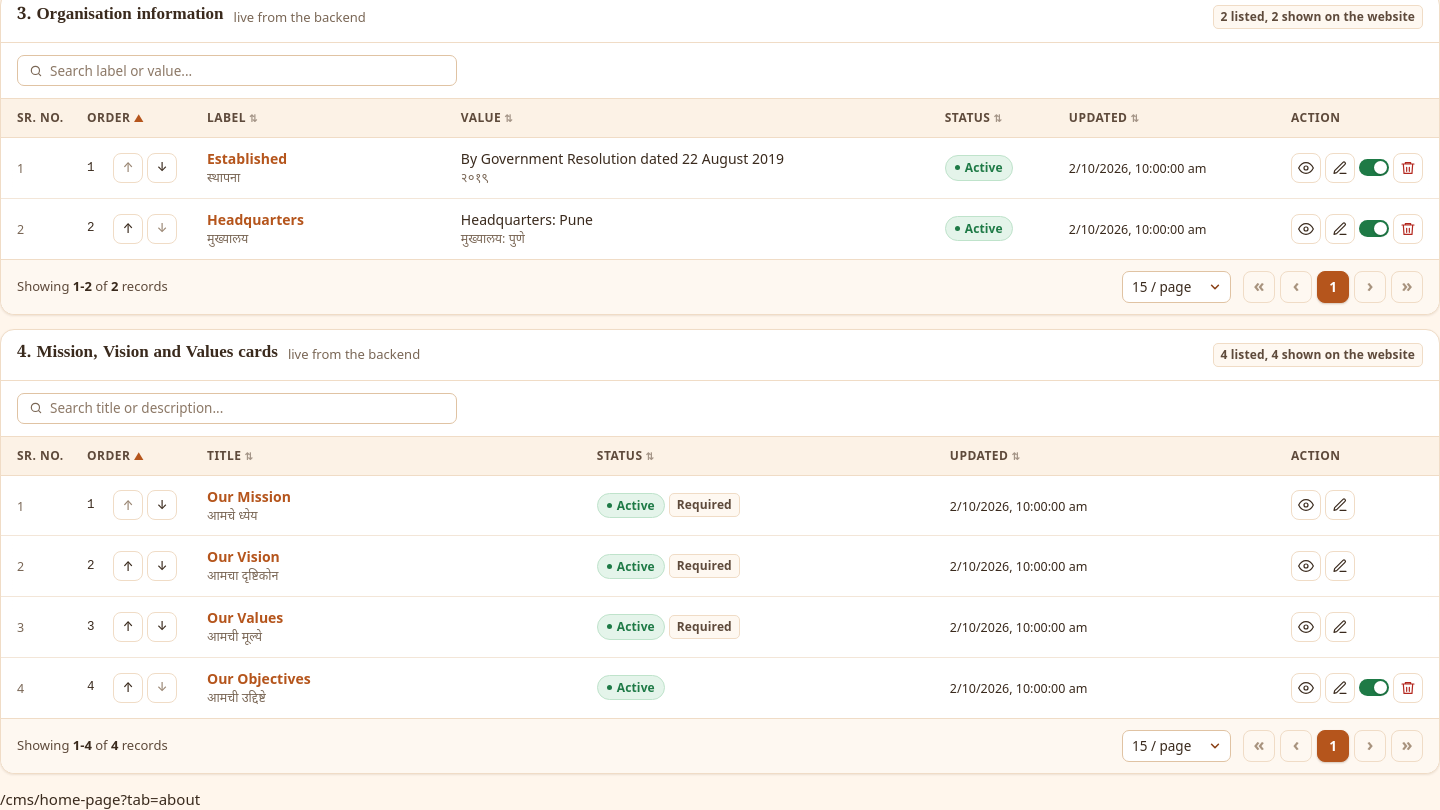
About AMRUT tab › switches an additional card off through the status toggle after asking, by id
(page scrolled)
Click the switch named "Our Objectives: active" at (1374, 688), box x1=1359 y1=679 x2=1389 y2=696
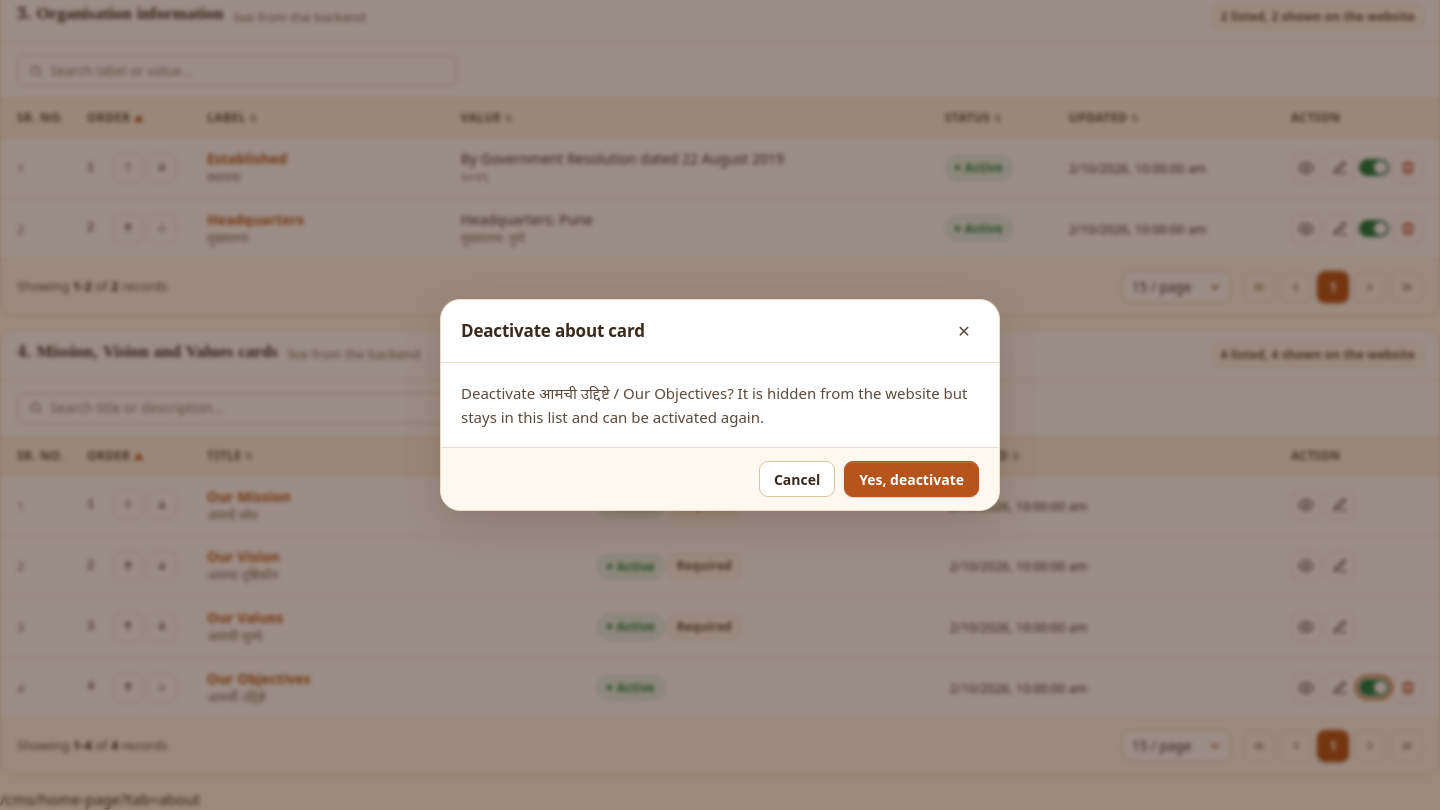
expect the dialog shows "Deactivate आमची उद्दिष्टे / Our Objectives?": met, box x1=461 y1=383 x2=968 y2=427
Click the button "Yes, deactivate" at (912, 479), box x1=844 y1=461 x2=979 y2=497
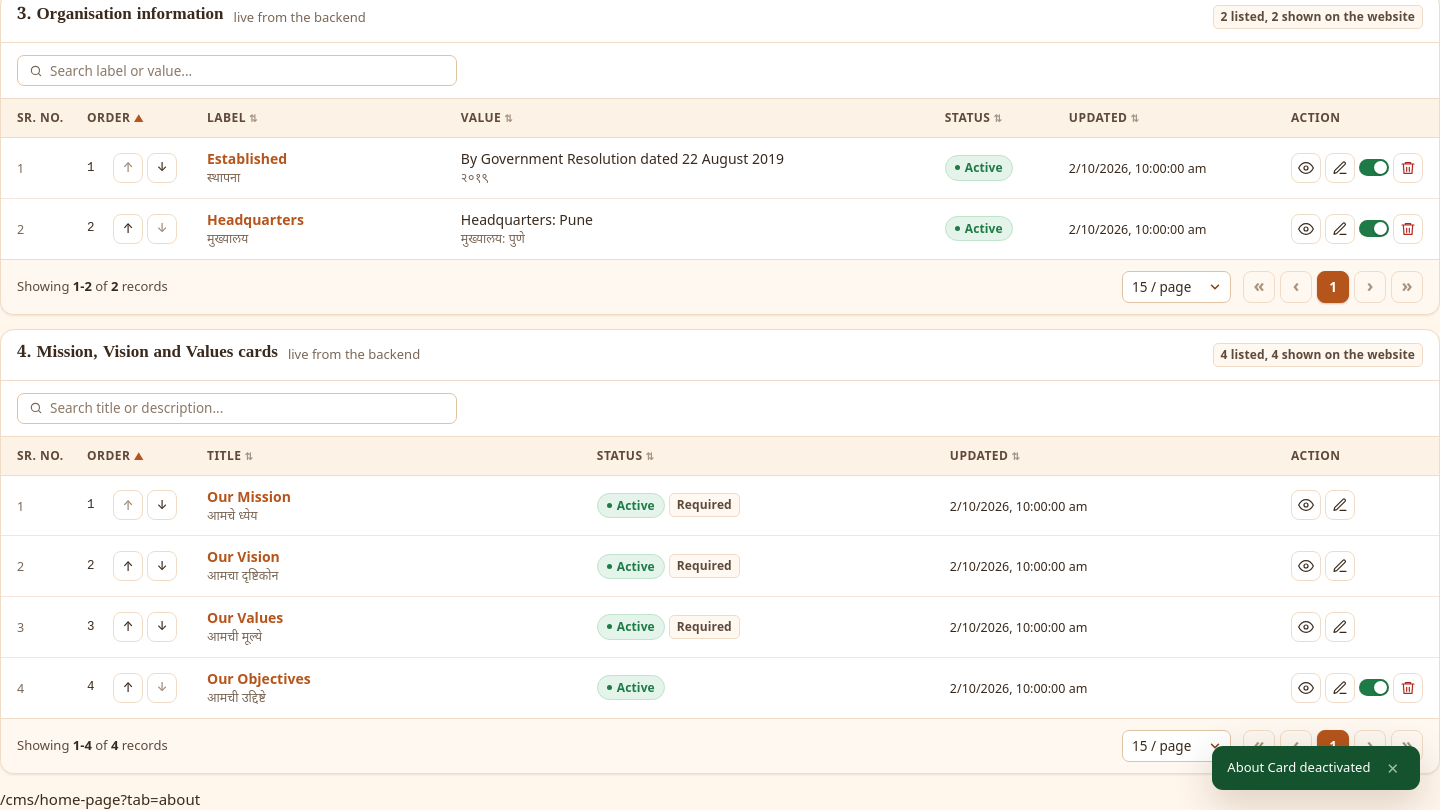
expect the text with test id "location" reads "/cms/home-page?tab=about": met, box x1=0 y1=789 x2=200 y2=809
expect the element with id "toast-root" shows "About Card deactivated": met, box x1=1227 y1=758 x2=1370 y2=776
